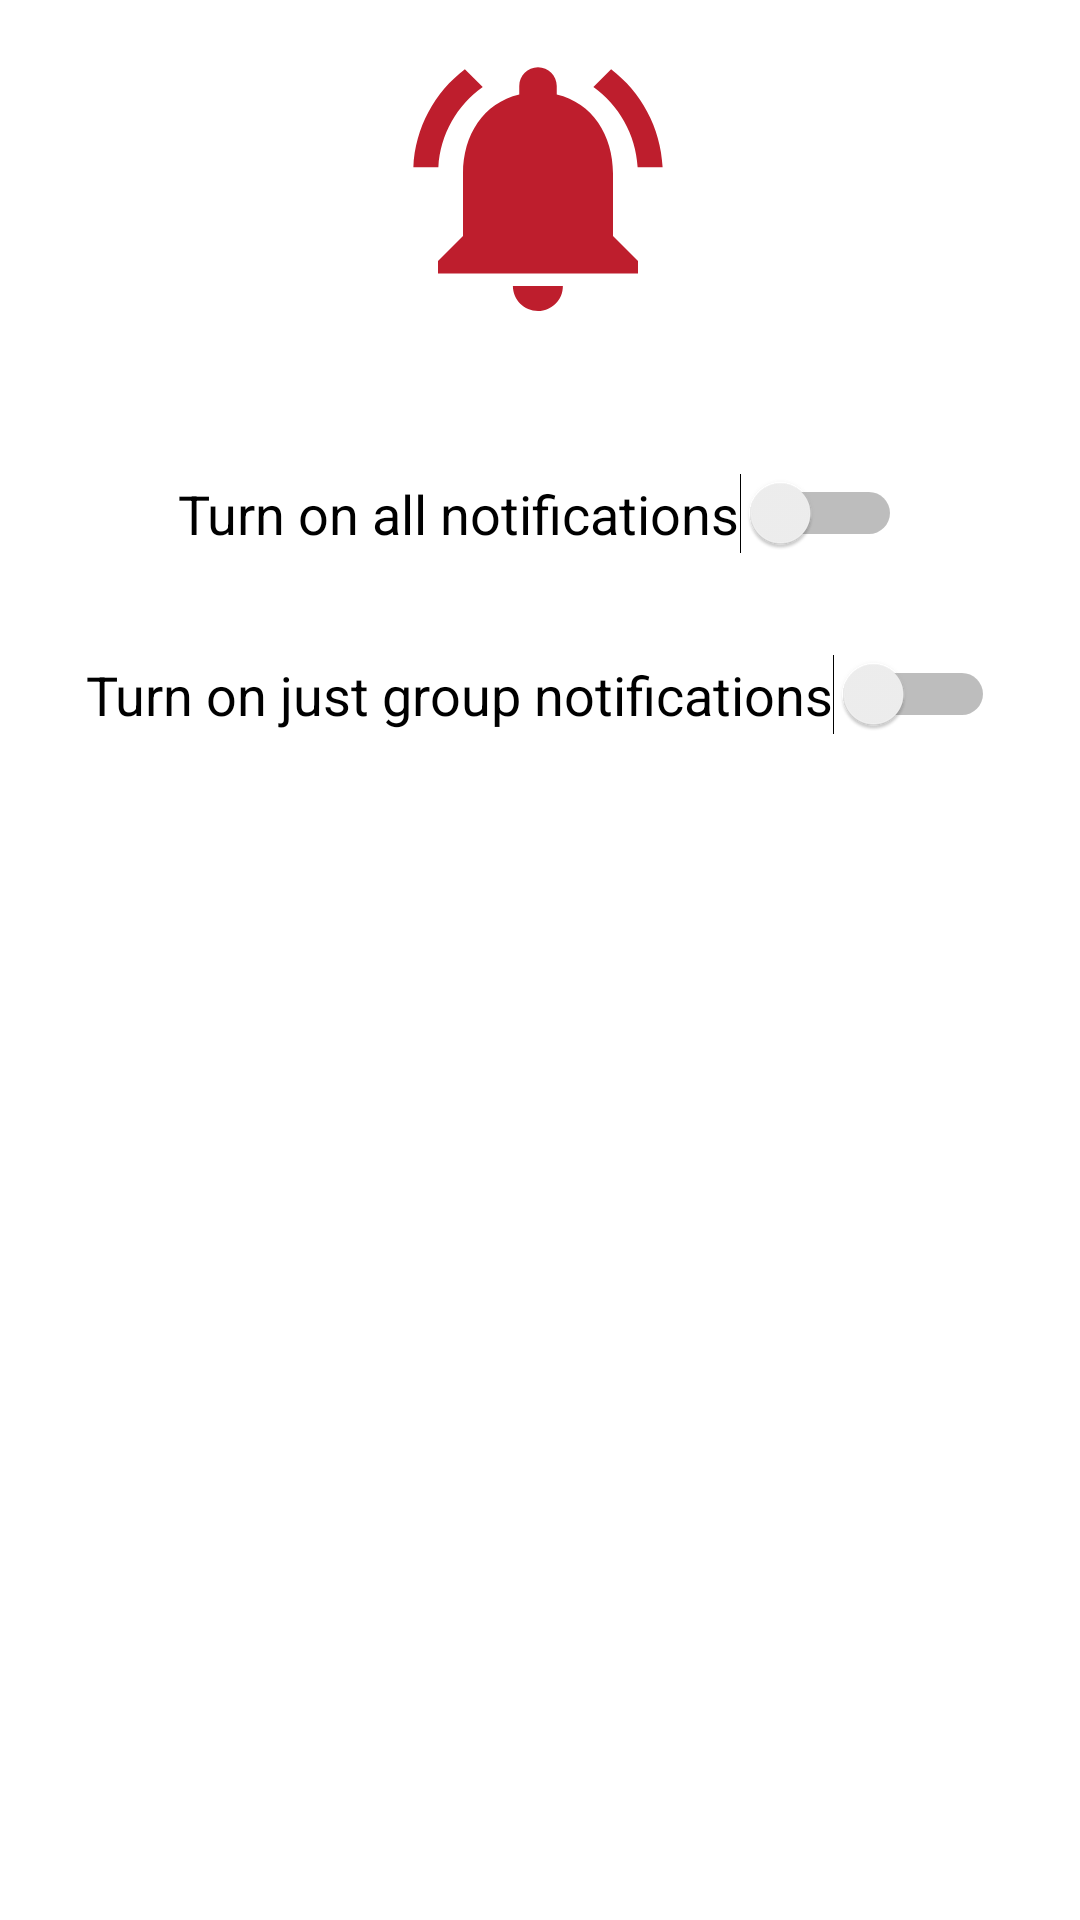

Named icons in this screenshot (1080 × 1920) and their bounding boxes, (x1, y1, x2, y2):
bell: (413, 67, 663, 311)
